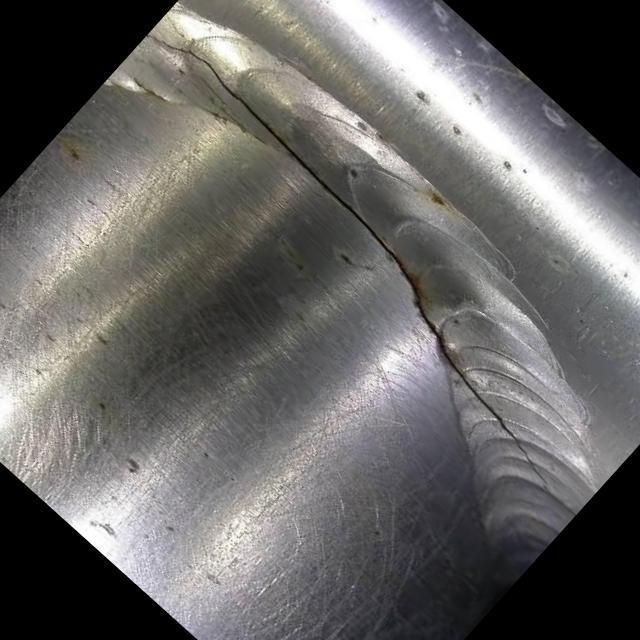defect: (147, 32, 557, 501)
